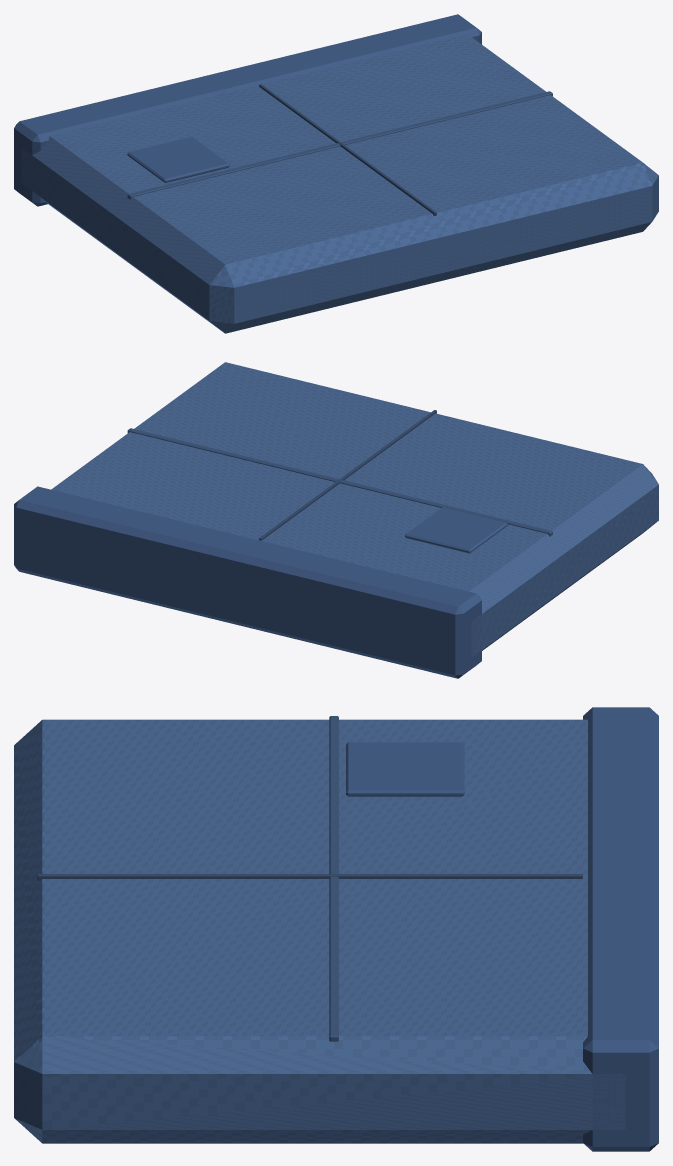
Rendered from jeans.glb.
The picture shows the model from 3 angles, top to bottom: view 1: azimuth 30°, elevation 25°; view 2: azimuth 150°, elevation 25°; view 3: azimuth 270°, elevation 25°; orthographic projection. The views are drawn at different scales.
Visible parts, largest first — view 1: block_body, block_waist, block_pocket, block_fold, block_seam; view 2: block_body, block_waist, block_pocket, block_fold, block_seam; view 3: block_body, block_waist, block_pocket, block_fold, block_seam.
Part boxes in pixels (bbox=[...]): block_body: bbox=[21, 34, 658, 333]; block_waist: bbox=[14, 14, 481, 206]; block_pocket: bbox=[127, 136, 229, 182]; block_fold: bbox=[127, 91, 552, 199]; block_seam: bbox=[259, 84, 436, 215]; block_body: bbox=[51, 362, 658, 657]; block_waist: bbox=[14, 486, 481, 678]; block_pocket: bbox=[405, 507, 507, 553]; block_fold: bbox=[127, 428, 552, 536]; block_seam: bbox=[259, 410, 436, 540]; block_body: bbox=[14, 719, 625, 1143]; block_waist: bbox=[583, 707, 658, 1151]; block_pocket: bbox=[346, 742, 464, 796]; block_fold: bbox=[329, 716, 338, 1041]; block_seam: bbox=[37, 874, 582, 880].
Size of the model in its own units: 0.34 by 0.053 by 0.272.
1 material, 1 textured.
